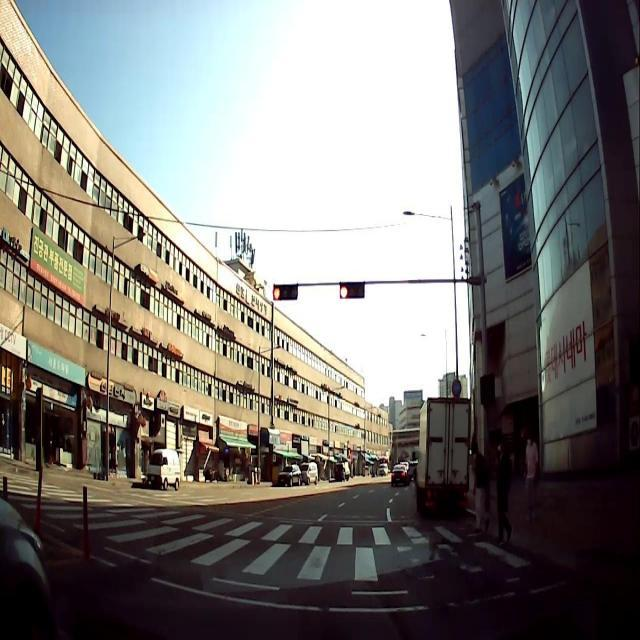crosswalk: (0, 469, 533, 582)
